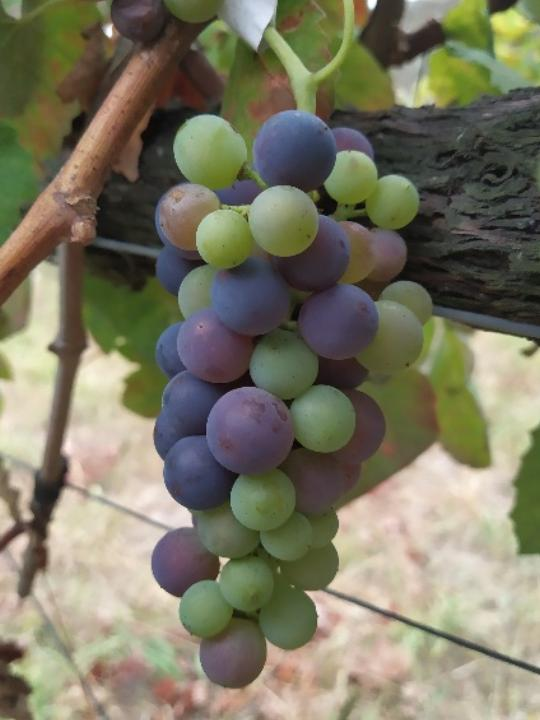grape: (148, 108, 436, 693)
